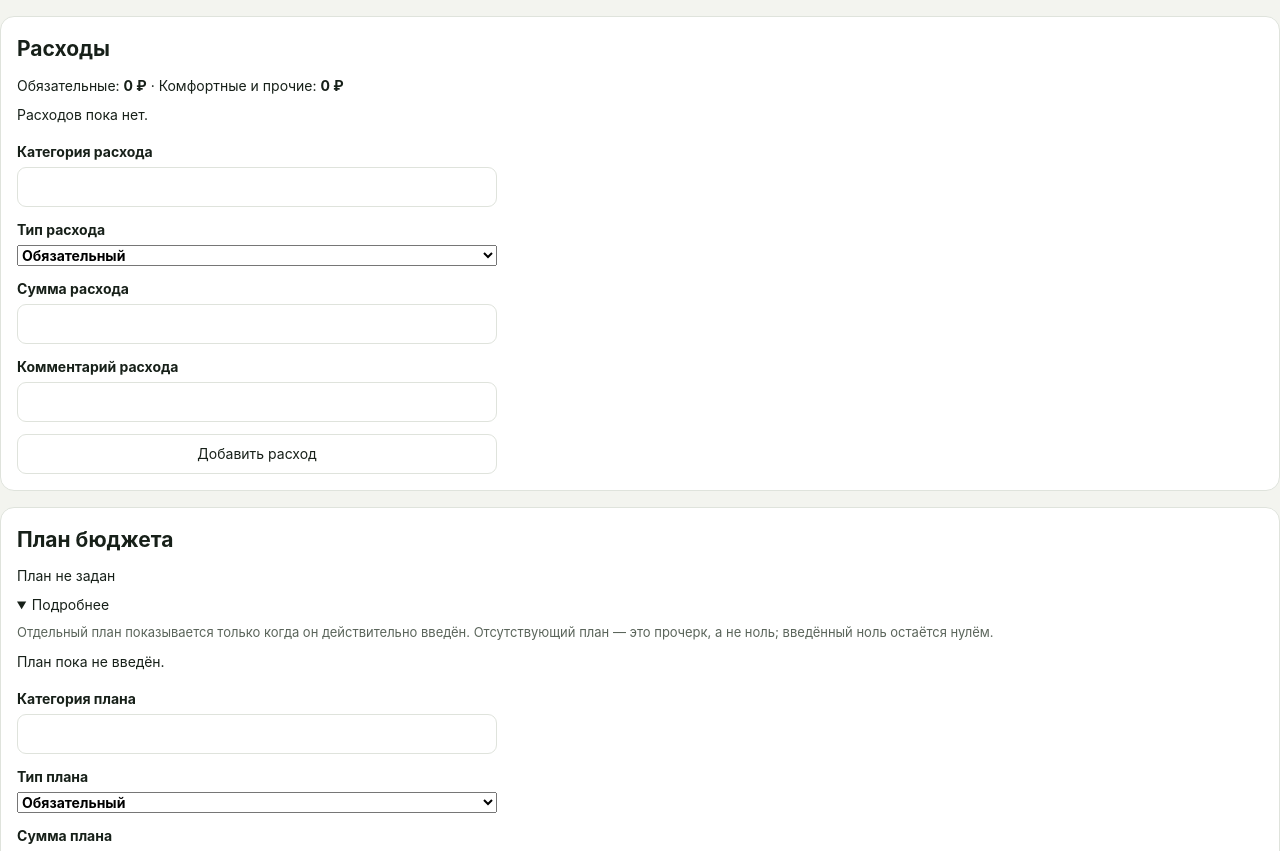
Test: UiV2MonthBudgetSection readback confirmation › fails an expense create when readback lacks the created id and keeps the draft
The width and height of the screenshot is (1280, 851).
Check: the element named "Расходы месяца" is shown, box [0,16,1279,490]
Type "Еда" into the field labelled "Категория расхода" at (257,186), box [17,166,497,206]
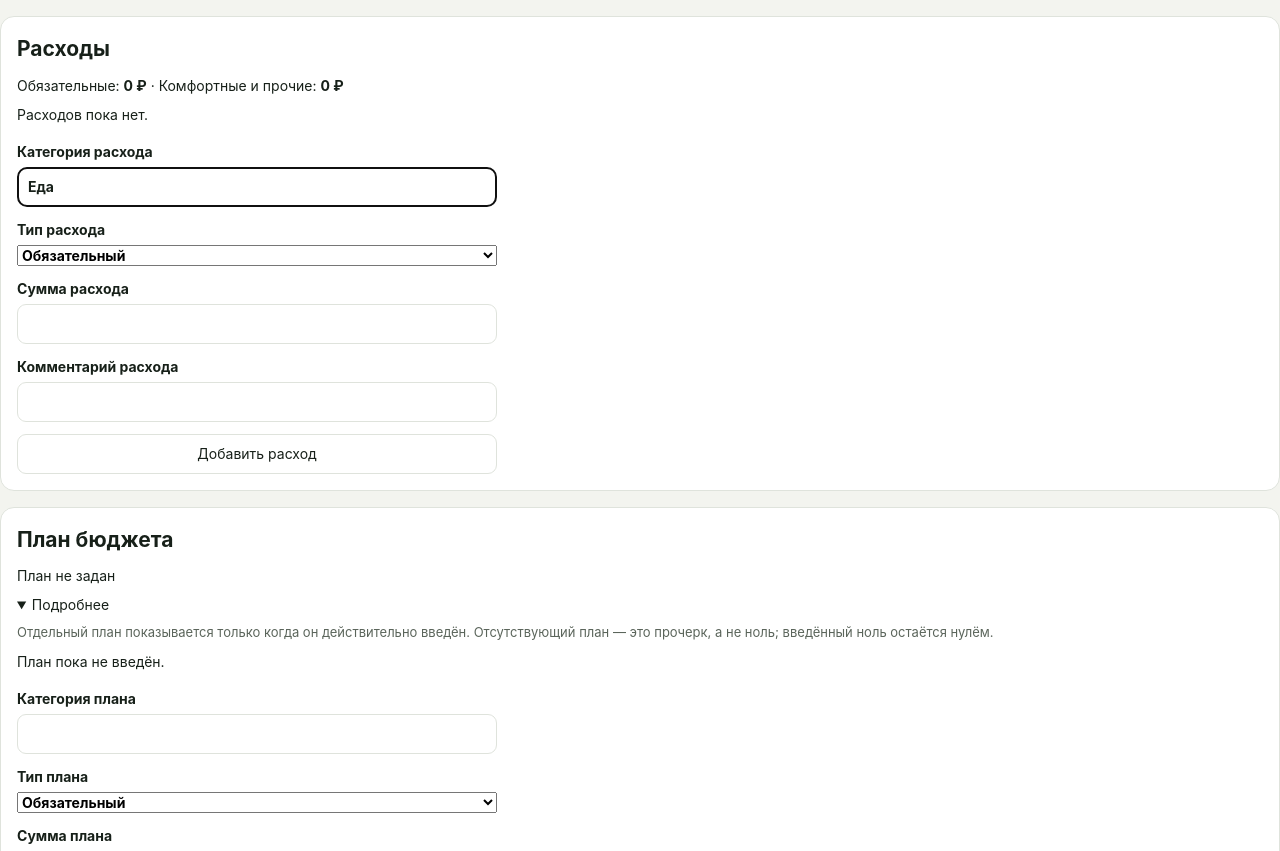
Type "50000" into the field labelled "Сумма расхода" at (257,324), box [17,304,497,344]
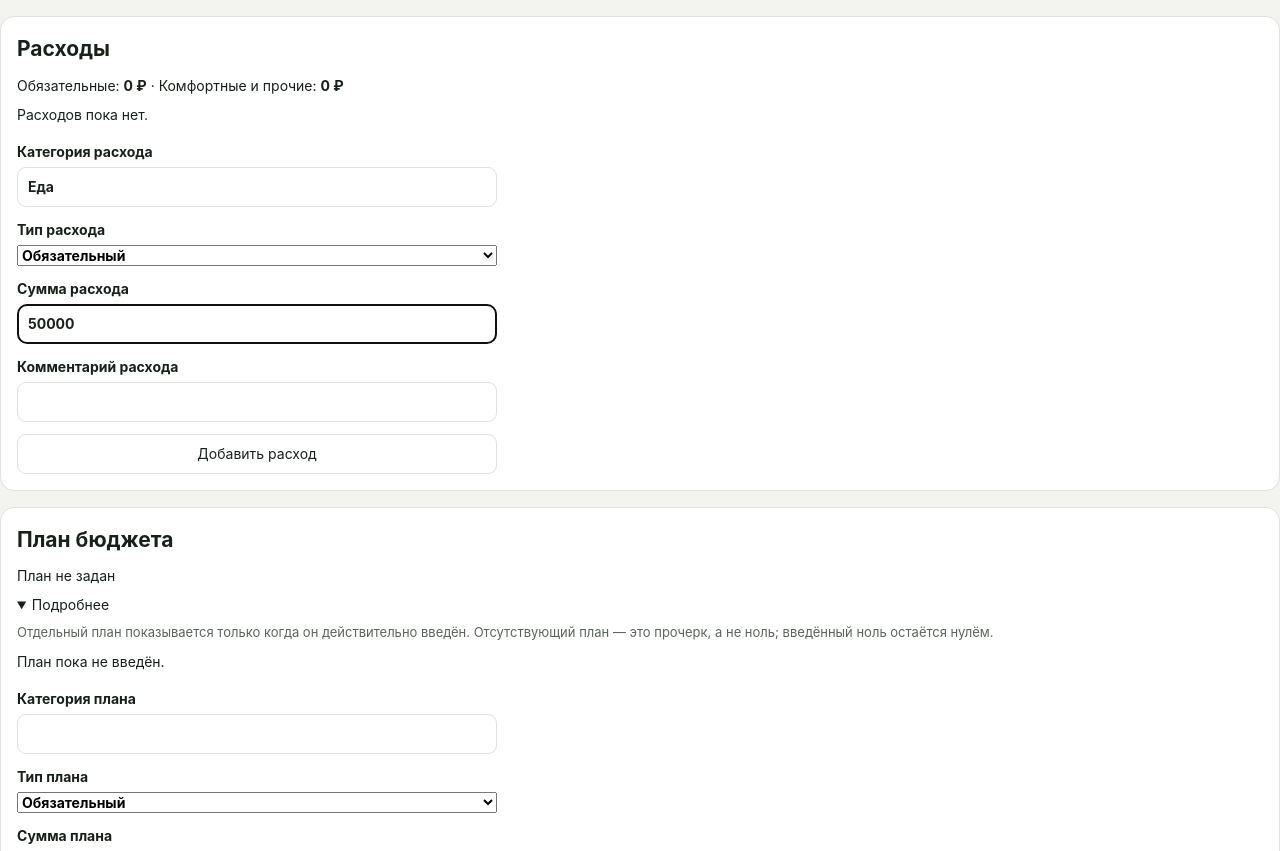
Click the button "Добавить расход" at (257,454), box [17,434,497,474]
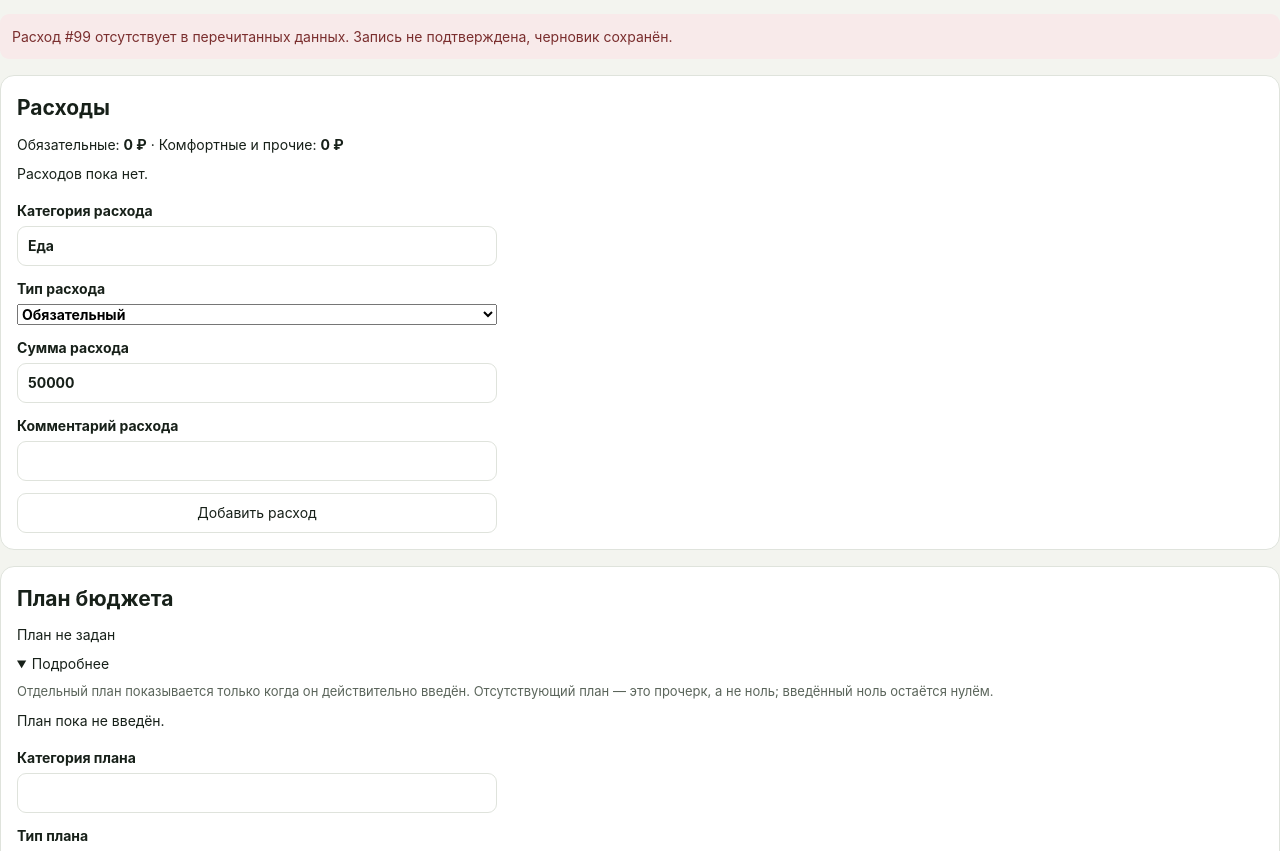
Check: the text "отсутствует в перечитанных данных" is shown, box [12,28,672,45]
